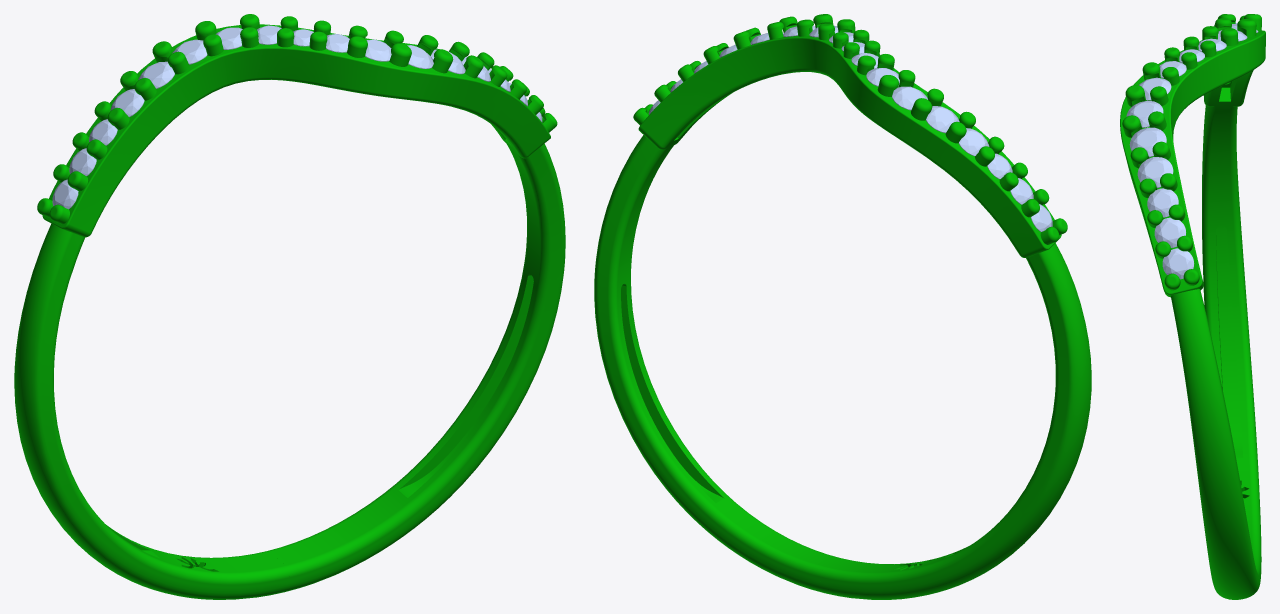
The picture shows the model from 3 angles, left to right: view 1: azimuth 30°, elevation 25°; view 2: azimuth 150°, elevation 25°; view 3: azimuth 270°, elevation 25°; orthographic projection. The views are drawn at different scales.
Visible parts, largest first — view 1: 1.3dm; view 2: 1.3dm; view 3: 1.3dm.
Part boxes in pixels (left/top/right/bottom): 1.3dm: left=14, top=14, right=565, bottom=599; 1.3dm: left=594, top=14, right=1091, bottom=599; 1.3dm: left=1120, top=14, right=1265, bottom=599.
Size of the model in its own units: 2.73 by 2.84 by 0.7086.
